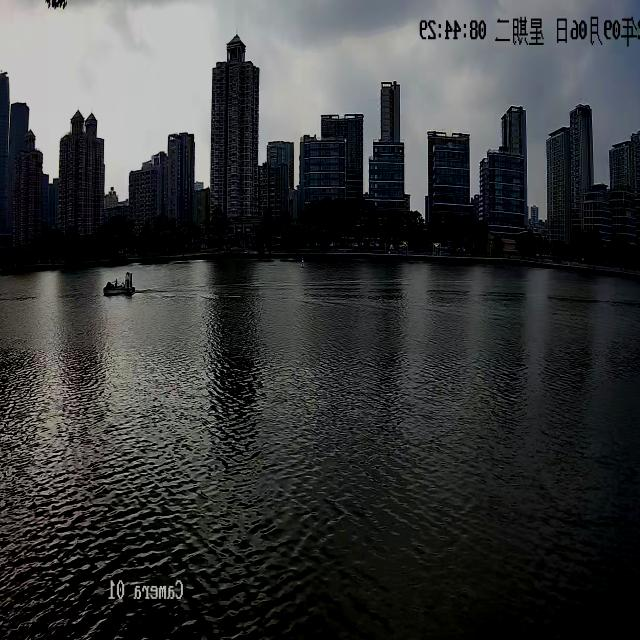ship: (104, 270, 136, 295)
